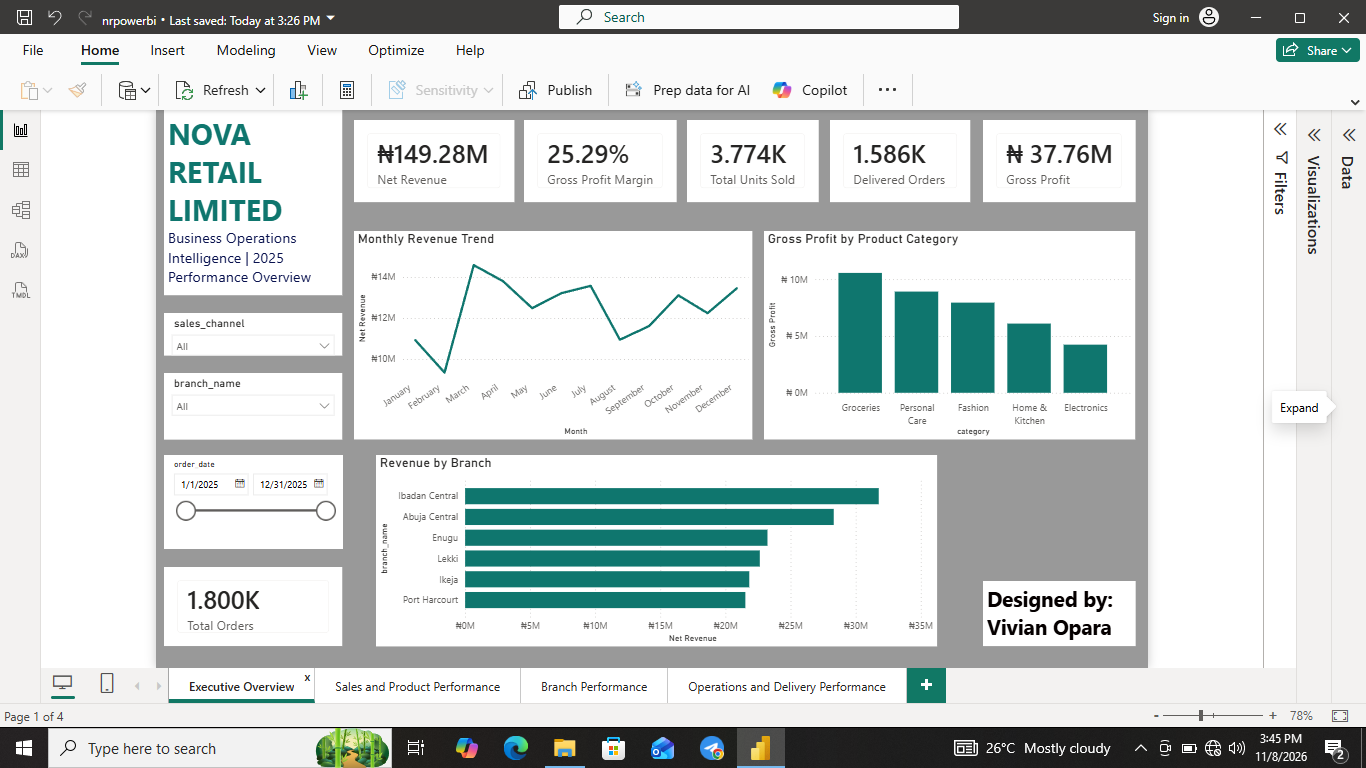

The dashboard page shown, as its layout file describes it:
{"tool":"powerbi","page":{"name":"Executive Overview","canvas":[1280,720],"ordinal":0},"visuals":[{"type":"textbox","box":[10.1,0,230.1,238.5],"z":0},{"type":"slicer","fields":{"Values":["nrorderscsv.order_date"]},"box":[10.1,445.1,230.1,120.9],"z":1000},{"type":"slicer","fields":{"Values":["nrbranchescsv.branch_name"]},"box":[10.1,339.3,230.1,85.7],"z":2000},{"type":"slicer","fields":{"Values":["nrorderscsv.sales_channel"]},"box":[10.1,262,230.1,55.4],"z":3000},{"type":"cardVisual","fields":{"Data":["nrorderscsv.Net Revenue"]},"box":[255.3,13.4,206.6,105.8],"z":4000},{"type":"cardVisual","fields":{"Data":["nrorderscsv.Gross Profit"]},"box":[1066.7,13.4,196.5,105.8],"z":5000},{"type":"cardVisual","fields":{"Data":["nrorderscsv.Gross Profit Margin"]},"box":[475.4,13.4,196.5,105.8],"z":6000},{"type":"cardVisual","fields":{"Data":["nrorderscsv.Total Orders"]},"box":[10.1,589.6,230.1,102.5],"z":7000},{"type":"cardVisual","fields":{"Data":["nrorderscsv.Total Units Sold"]},"box":[685.4,13.4,169.7,105.8],"z":8000},{"type":"cardVisual","fields":{"Data":["nrorderscsv.Delivered Orders"]},"box":[870.1,13.4,181.4,105.8],"z":9000},{"type":"lineChart","title":"Monthly Revenue Trend","fields":{"Category":["nrorderscsv.order_date.Variation.Date Hierarchy.Month"],"Y":["nrorderscsv.Net Revenue"]},"box":[255.3,156.2,514,268.8],"z":10000},{"type":"clusteredBarChart","title":"Revenue by Branch","fields":{"Category":["nrbranchescsv.branch_name"],"Y":["nrorderscsv.Net Revenue"]},"box":[283.9,445.1,724,246.9],"z":11000},{"type":"clusteredColumnChart","title":"Gross Profit by Product Category","fields":{"Category":["nrproductscsv.category"],"Y":["nrorderscsv.Gross Profit"]},"box":[784.5,156.2,478.7,268.8],"z":12000},{"type":"textbox","box":[1066.7,608.1,196.5,84],"z":13000}]}

Visuals, with their boxes on the page's 1280x720 design canvas (x1, y1, x2, y2). These are canvas units, not pixel positions in the 1366x768 screenshot, which may show the page scaled, cropped or inside an application window:
textbox: {"left": 10, "top": 0, "right": 240, "bottom": 238}
slicer - nrorderscsv.order_date: {"left": 10, "top": 445, "right": 240, "bottom": 566}
slicer - nrbranchescsv.branch_name: {"left": 10, "top": 339, "right": 240, "bottom": 425}
slicer - nrorderscsv.sales_channel: {"left": 10, "top": 262, "right": 240, "bottom": 317}
cardVisual - nrorderscsv.Net Revenue: {"left": 255, "top": 13, "right": 462, "bottom": 119}
cardVisual - nrorderscsv.Gross Profit: {"left": 1067, "top": 13, "right": 1263, "bottom": 119}
cardVisual - nrorderscsv.Gross Profit Margin: {"left": 475, "top": 13, "right": 672, "bottom": 119}
cardVisual - nrorderscsv.Total Orders: {"left": 10, "top": 590, "right": 240, "bottom": 692}
cardVisual - nrorderscsv.Total Units Sold: {"left": 685, "top": 13, "right": 855, "bottom": 119}
cardVisual - nrorderscsv.Delivered Orders: {"left": 870, "top": 13, "right": 1052, "bottom": 119}
"Monthly Revenue Trend" lineChart: {"left": 255, "top": 156, "right": 769, "bottom": 425}
"Revenue by Branch" clusteredBarChart: {"left": 284, "top": 445, "right": 1008, "bottom": 692}
"Gross Profit by Product Category" clusteredColumnChart: {"left": 784, "top": 156, "right": 1263, "bottom": 425}
textbox: {"left": 1067, "top": 608, "right": 1263, "bottom": 692}
